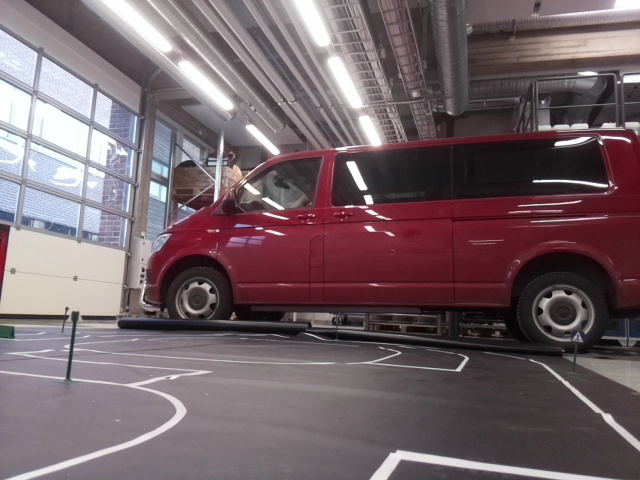Crosswalk: (572, 330, 583, 344)
